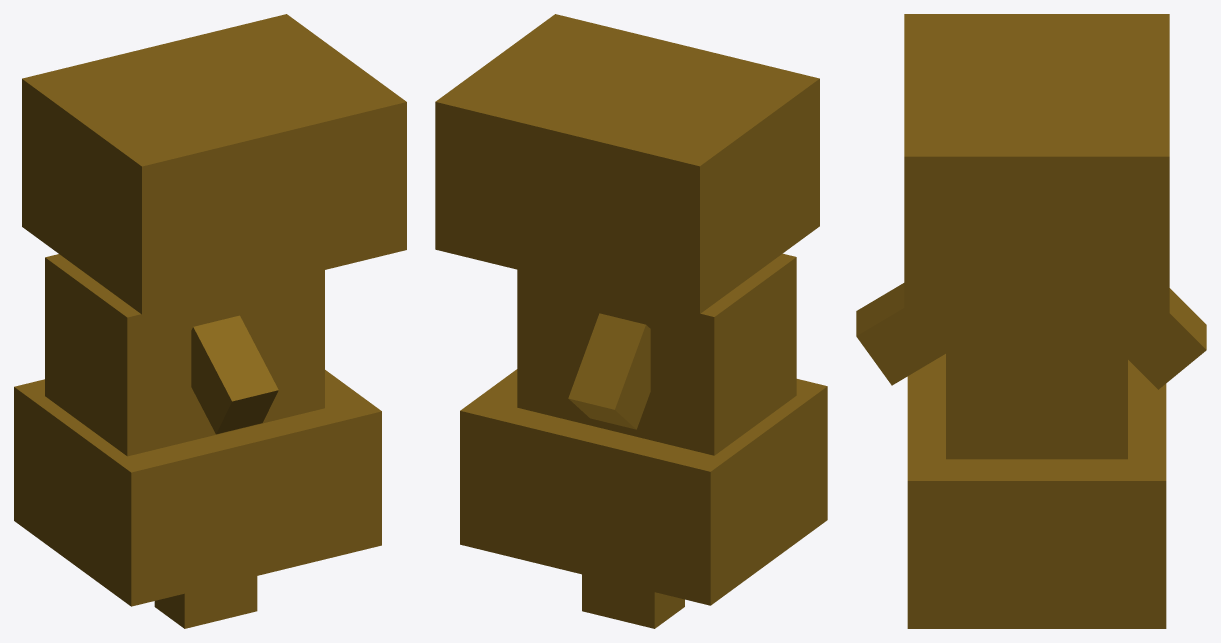
The model's file is EtIdle.glb.
The picture shows the model from 3 angles, left to right: view 1: azimuth 30°, elevation 25°; view 2: azimuth 150°, elevation 25°; view 3: azimuth 270°, elevation 25°; orthographic projection. The views are drawn at different scales.
Parts seen in each view (by area): view 1: Cube.003; view 2: Cube.003; view 3: Cube.003.
Part boxes in pixels (x1,y1,x2,y2): Cube.003: [14, 14, 406, 628]; Cube.003: [435, 14, 827, 628]; Cube.003: [856, 14, 1206, 628].
Size of the model in its own units: 2.25 by 3.81 by 2.26.
